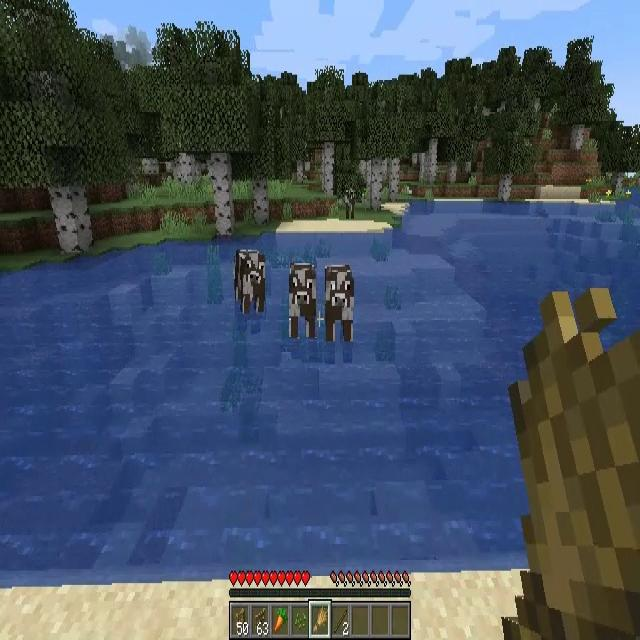cow: (324, 266, 353, 342), (289, 261, 317, 337), (235, 250, 265, 318), (345, 190, 355, 219)
